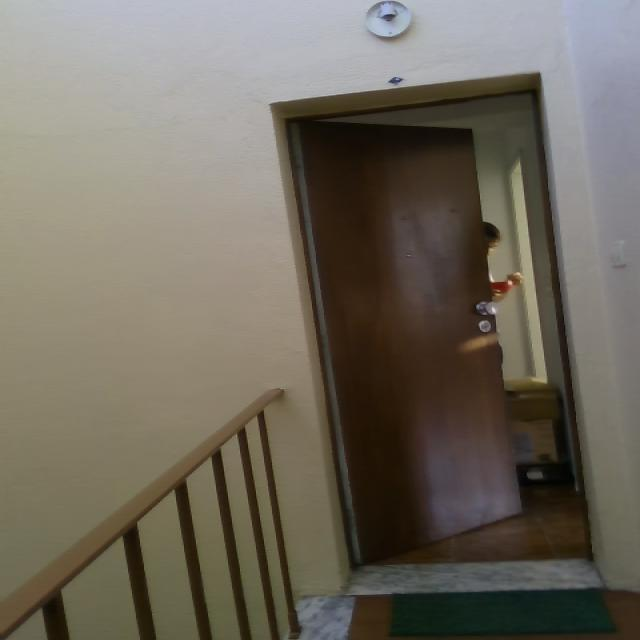door: (289, 118, 525, 565)
